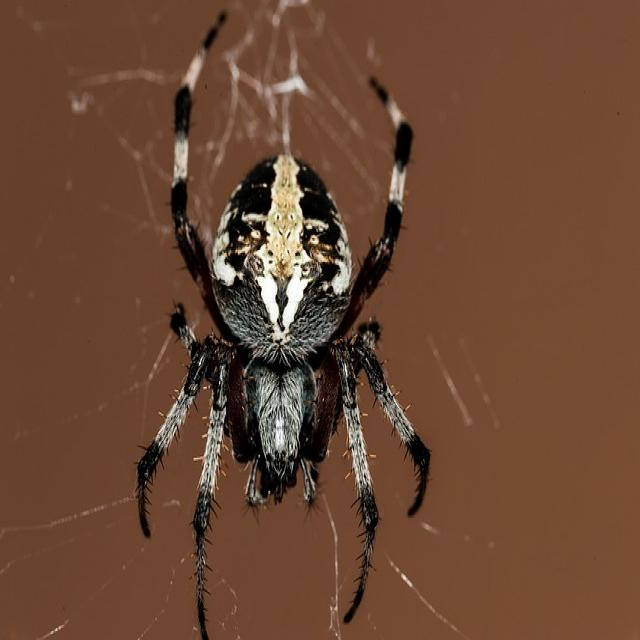spyder: (138, 11, 430, 637)
